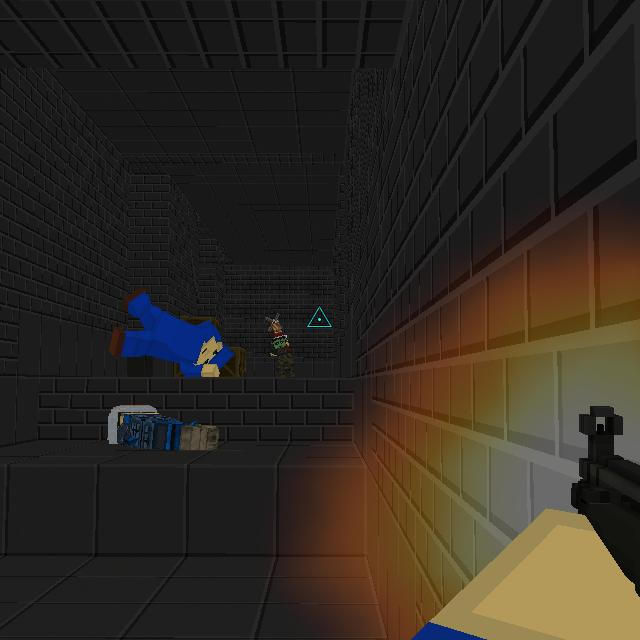enemy: (266, 312, 296, 378)
